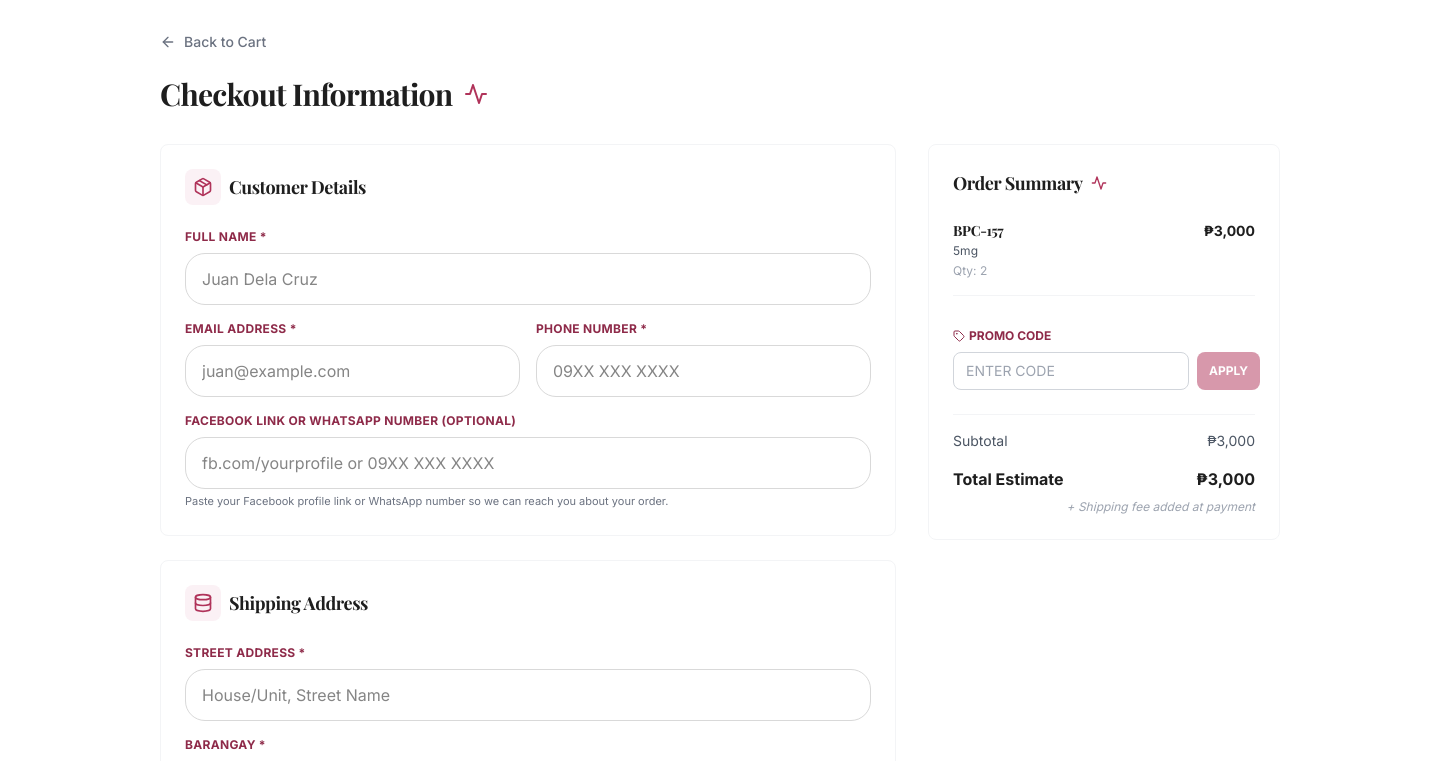
Checkout › promo code › shows error for invalid promo code
Type "BADCODE" into the field with placeholder "ENTER CODE" at [1071, 371], box [953, 352, 1189, 390]
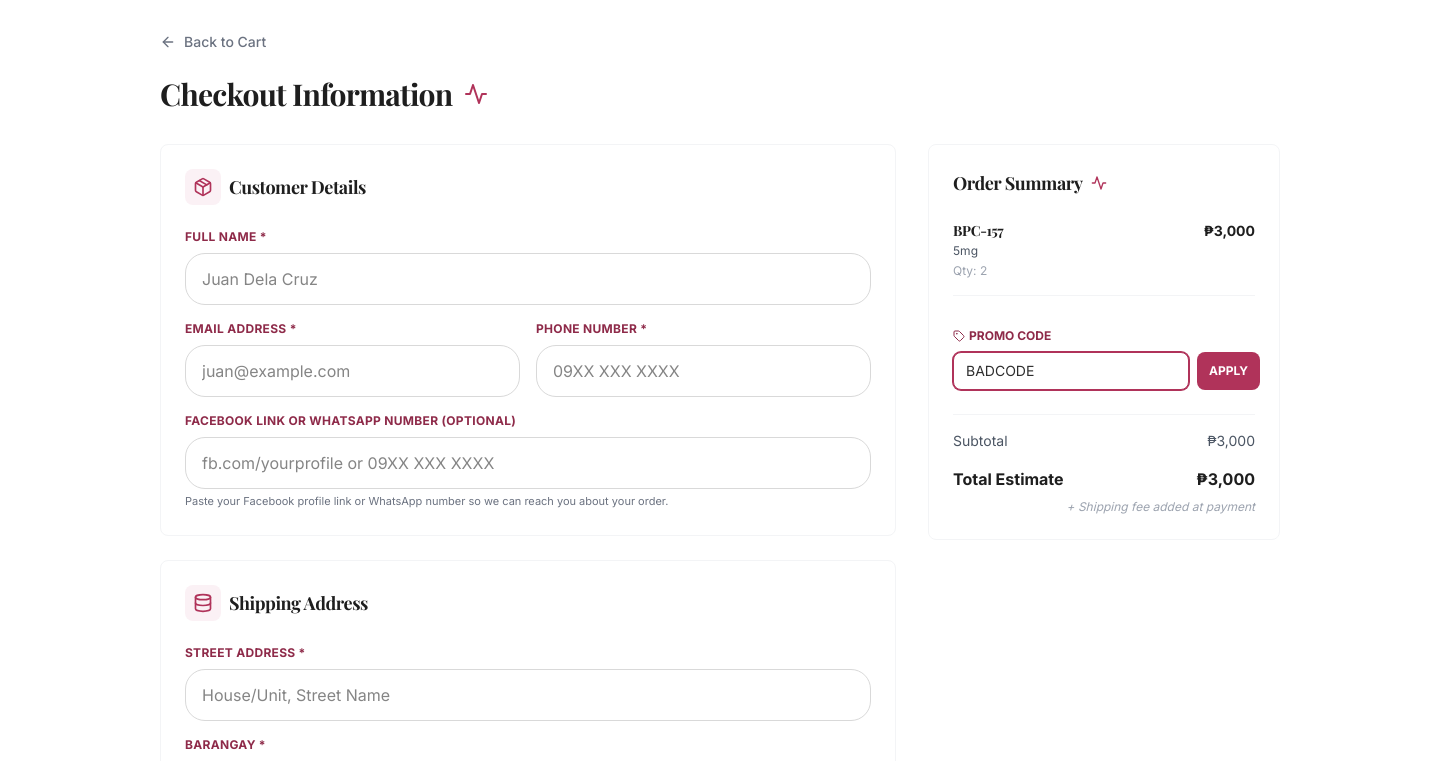
Click the button "APPLY" at [1228, 371], box [1197, 352, 1260, 390]
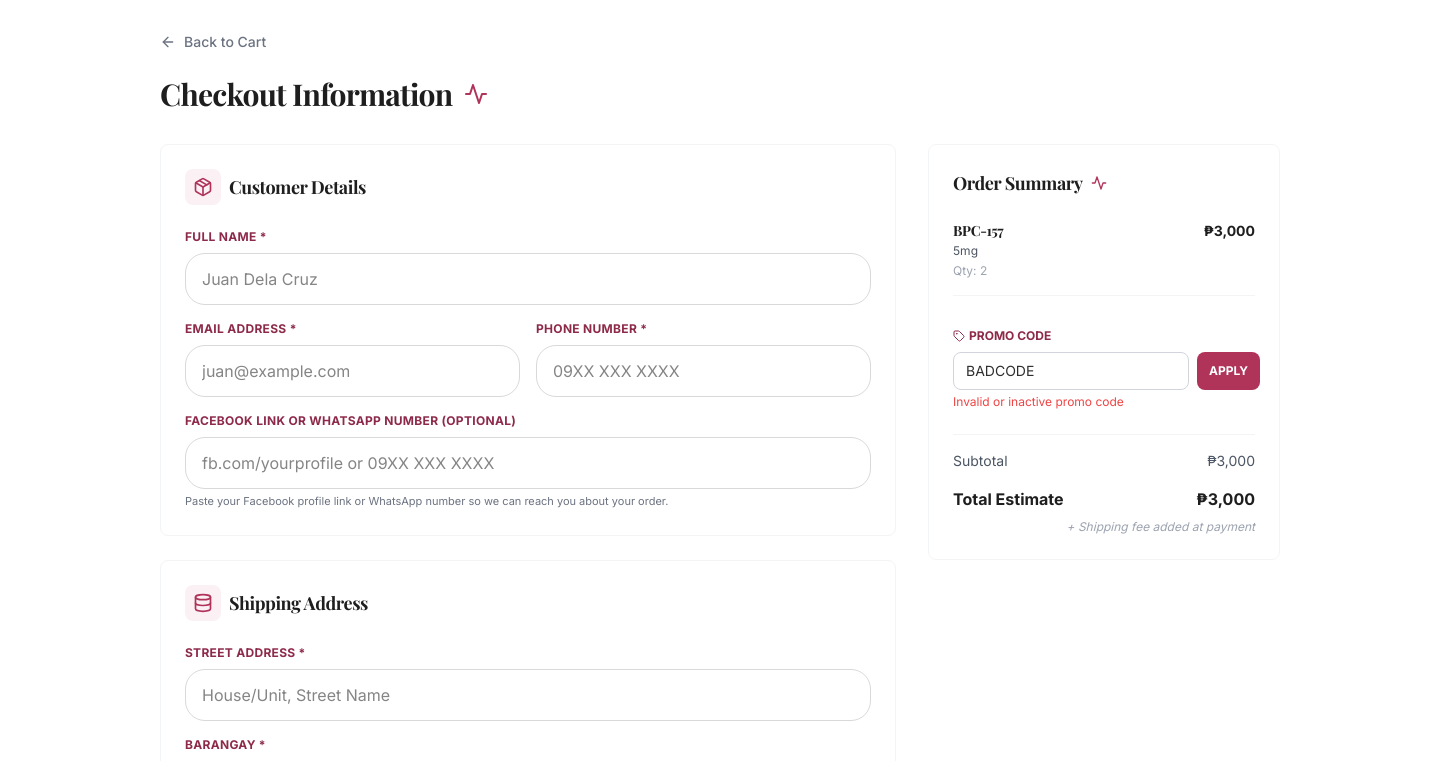
Expected: the text "Invalid or inactive promo code" is shown, [953, 394, 1124, 409]
